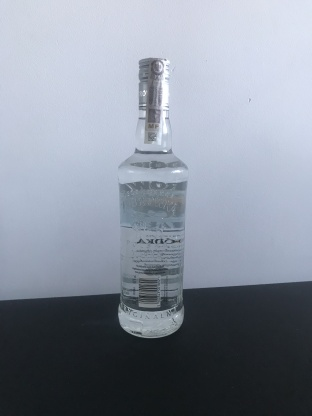nakretka: (136, 53, 173, 113)
